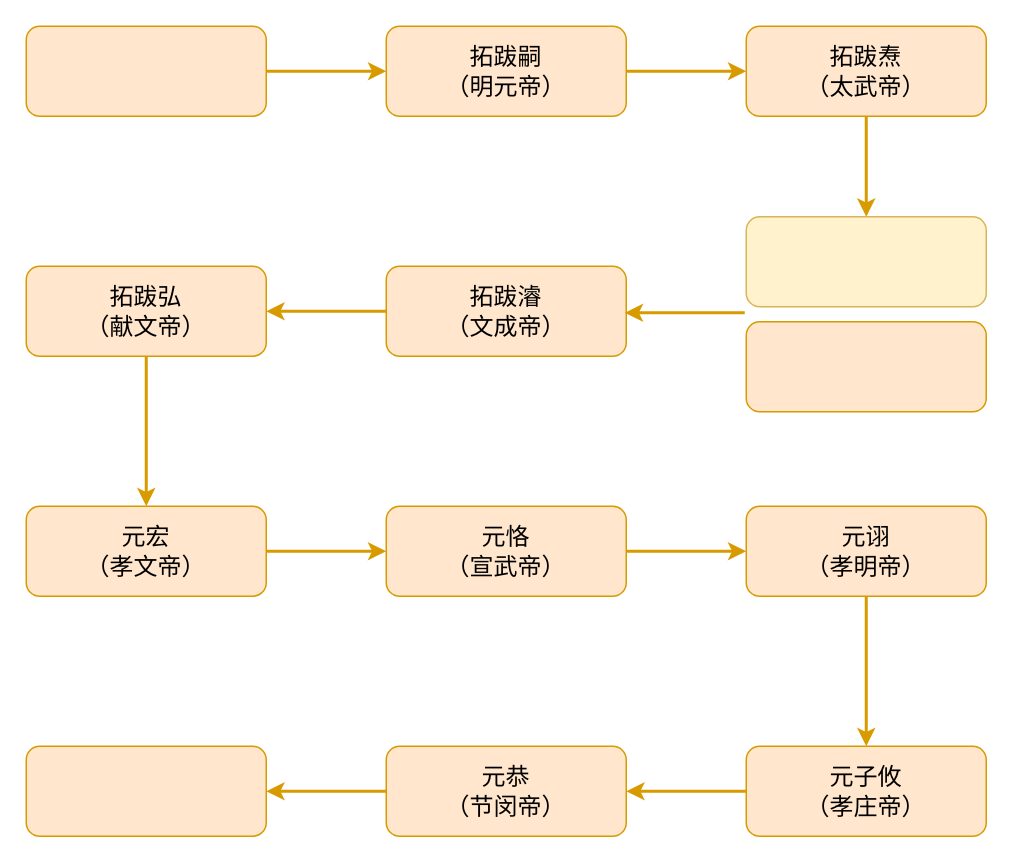
Some shapes in this 1013 by 863 pixel diagram are drawn without their labels. Here are the shapes that lost their labels. From the top down, the centre of each, then its label:
point 145,70: 拓跋珪 （道武帝）
point 865,261: 拓跋余 （南安王）
point 865,366: 拓跋晃 （景穆帝，追封）
point 145,790: 元修 （ 孝武帝 ）
